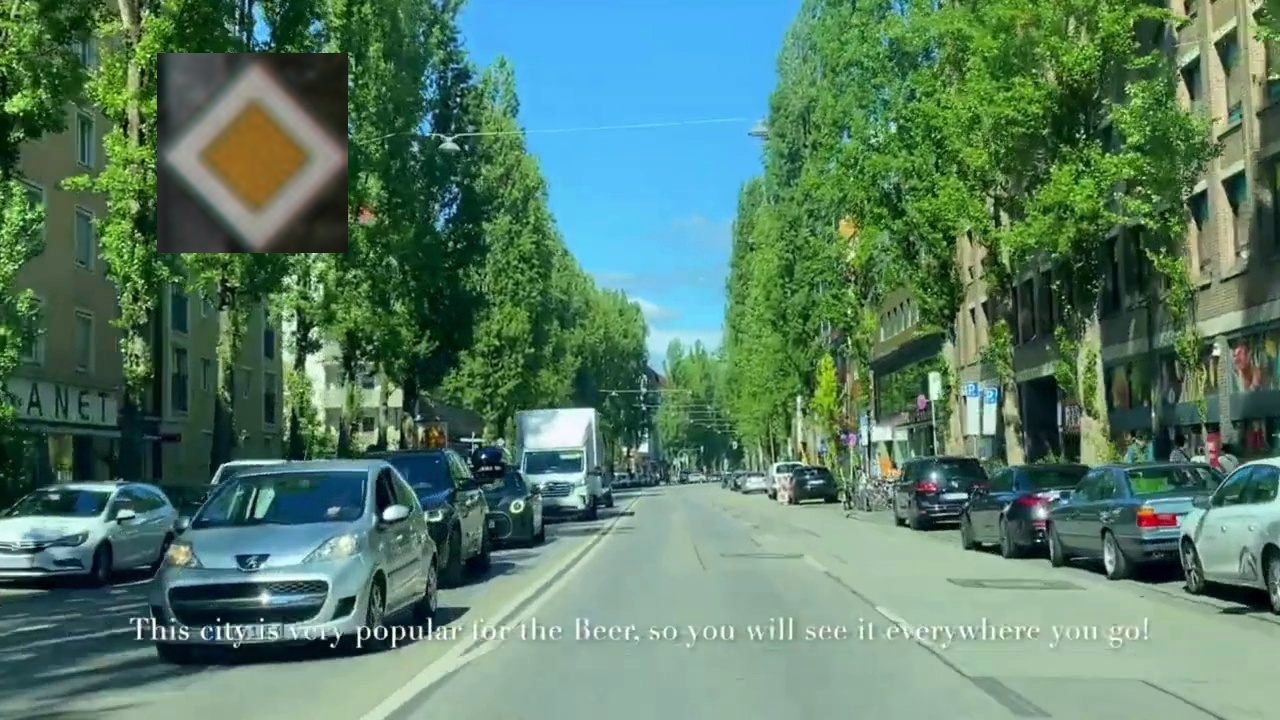Priority road: (157, 53, 348, 253)
